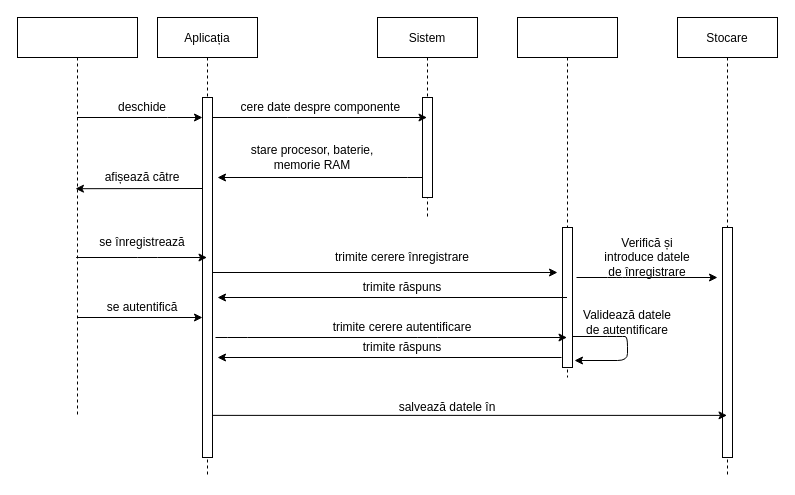
The diagram is 795 pixels wide and 495 high, and some of its shapes have lost their labels. Here are the shapes that lost their labels. From the top down, the box of each, then its label:
(16, 16, 138, 418): Utilizator
(516, 16, 618, 378): Server Web
